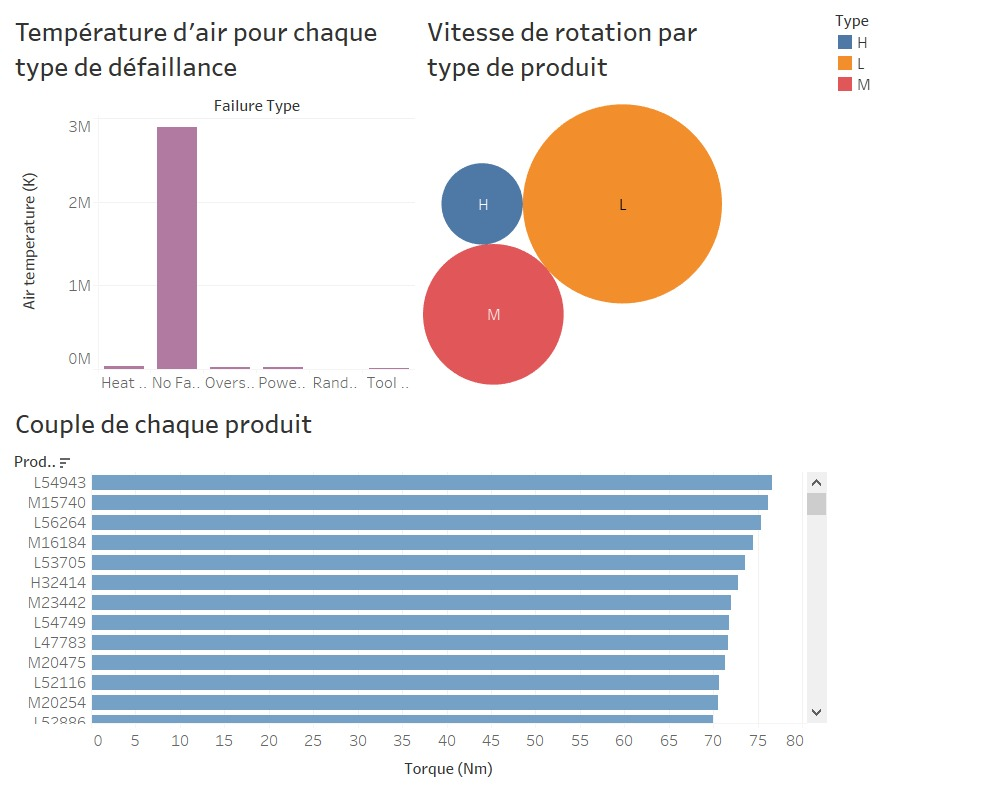

The dashboard page shown, as its layout file describes it:
{"tool":"tableau","page":{"name":"Dashboard 1","canvas":[1000,800],"ordinal":0},"visuals":[{"type":"worksheet","title":"Sheet 1","mark":"Automatic","rows":["Air temperature (K)"],"cols":["Failure Type"],"box":[8,8,412,392]},{"type":"worksheet","title":"Sheet 3","mark":"Circle","box":[420,8,412,392]},{"type":"legend","title":"Sheet 3","param":"[federated.1ua1x8802589c7121db5p0j2yzmo].[none:Type:nk]","box":[832,8,160,93]},{"type":"worksheet","title":"Sheet 2","mark":"Automatic","rows":["Product ID"],"cols":["Torque (Nm)"],"box":[8,400,824,392]}]}

Visuals, with their boxes in screenshot pixels (x1, y1, x2, y2), scaled from the page's 1000x800 canvas onto the 988x798 screenshot:
"Sheet 1" worksheet: locate(8, 8, 415, 399)
"Sheet 3" worksheet (Circle marks): locate(415, 8, 822, 399)
"Sheet 3" legend: locate(822, 8, 980, 101)
"Sheet 2" worksheet: locate(8, 399, 822, 790)
